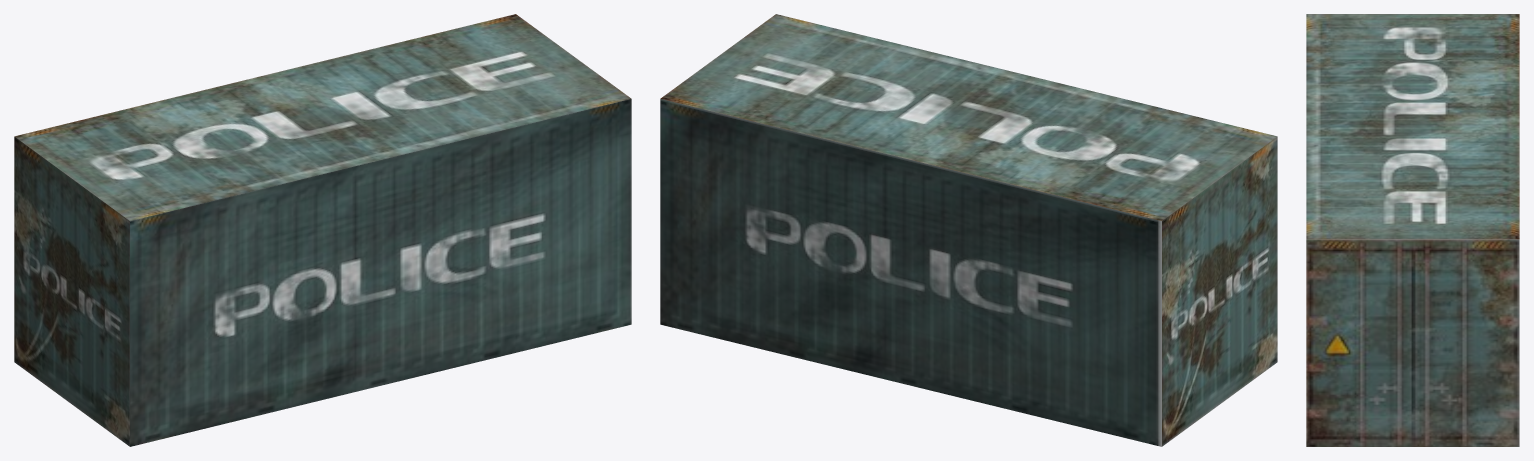
File: container-06.glb
3 renders of one model, left to right at view 1: azimuth 30°, elevation 25°; view 2: azimuth 150°, elevation 25°; view 3: azimuth 270°, elevation 25°, orthographic. The views are drawn at different scales.
Visible parts, largest first — view 1: container-06; view 2: container-06; view 3: container-06.
Part boxes in pixels (x1,y1,x2,y2): container-06: (14, 14, 631, 446); container-06: (660, 14, 1277, 446); container-06: (1306, 14, 1519, 446).
Size of the model in its own units: 6.1 by 2.62 by 2.44.
Materials: 1 (1 with a texture image).
